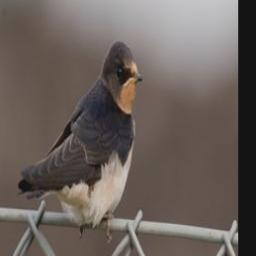Swallow: (16, 37, 142, 242)
